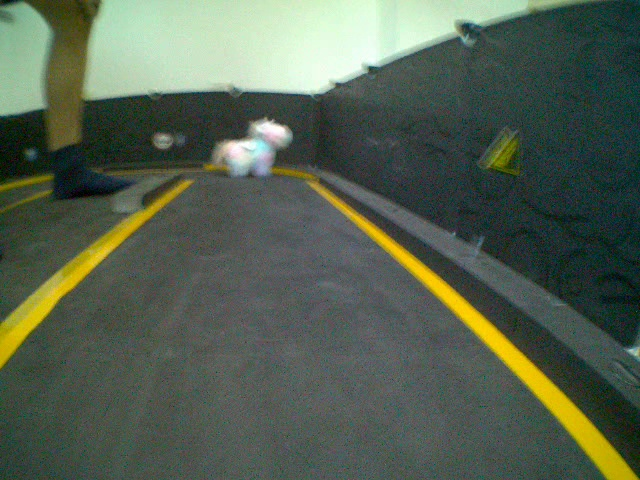unicorn: (207, 113, 295, 179)
